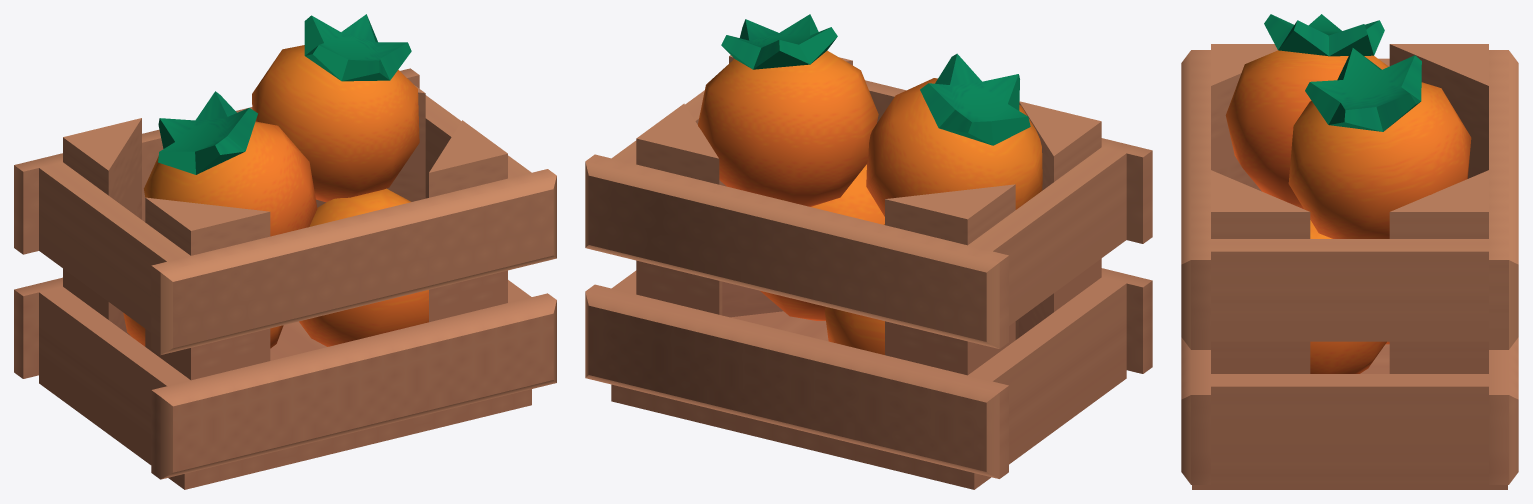
The model's file is Food_Crate_Small_Berries.gltf.
3 views of the same model, side by side, from view 1: azimuth 30°, elevation 25°; view 2: azimuth 150°, elevation 25°; view 3: azimuth 270°, elevation 25° (orthographic). The views are drawn at different scales.
Parts seen in each view (by area): view 1: Food_Crate_Small_Berries; view 2: Food_Crate_Small_Berries; view 3: Food_Crate_Small_Berries.
Boxes of the visible parts, x1,y1,x2,y2 form: Food_Crate_Small_Berries: [14, 14, 556, 489]; Food_Crate_Small_Berries: [585, 14, 1152, 489]; Food_Crate_Small_Berries: [1181, 14, 1518, 489].
Bounding box in the file's own units: 0.5546 × 0.4591 × 0.3772.
1 material, 1 textured.
